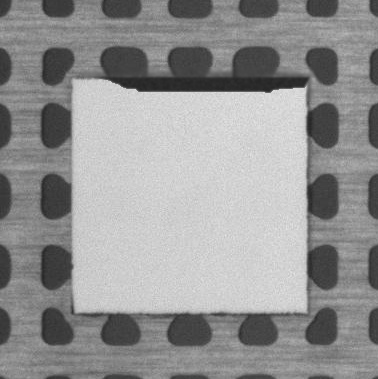DIE_BROKEN: (94, 72, 312, 94)
